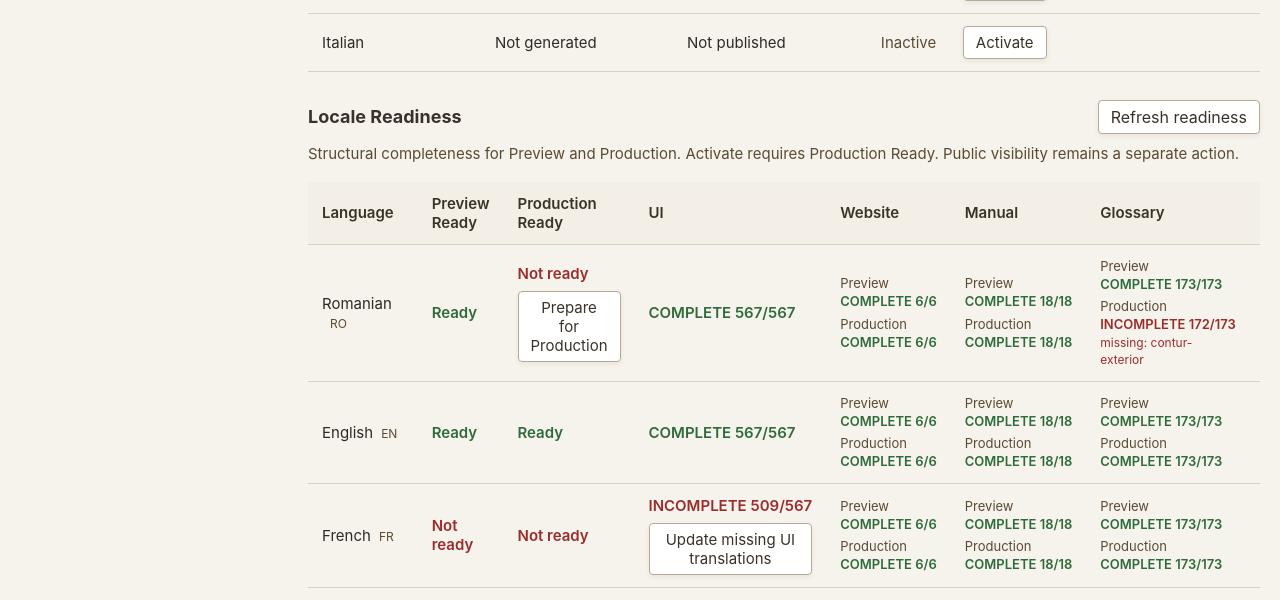
Test: Admin Locale Readiness overview › requires confirmation and refreshes readiness after successful prepare
(page scrolled)
What coordinates should you click on to do the following:
click the button "Prepare for Production" in the row of "172"
I would click on:
 (569, 326)
Its box is [518,291,620,362].
(page scrolled)
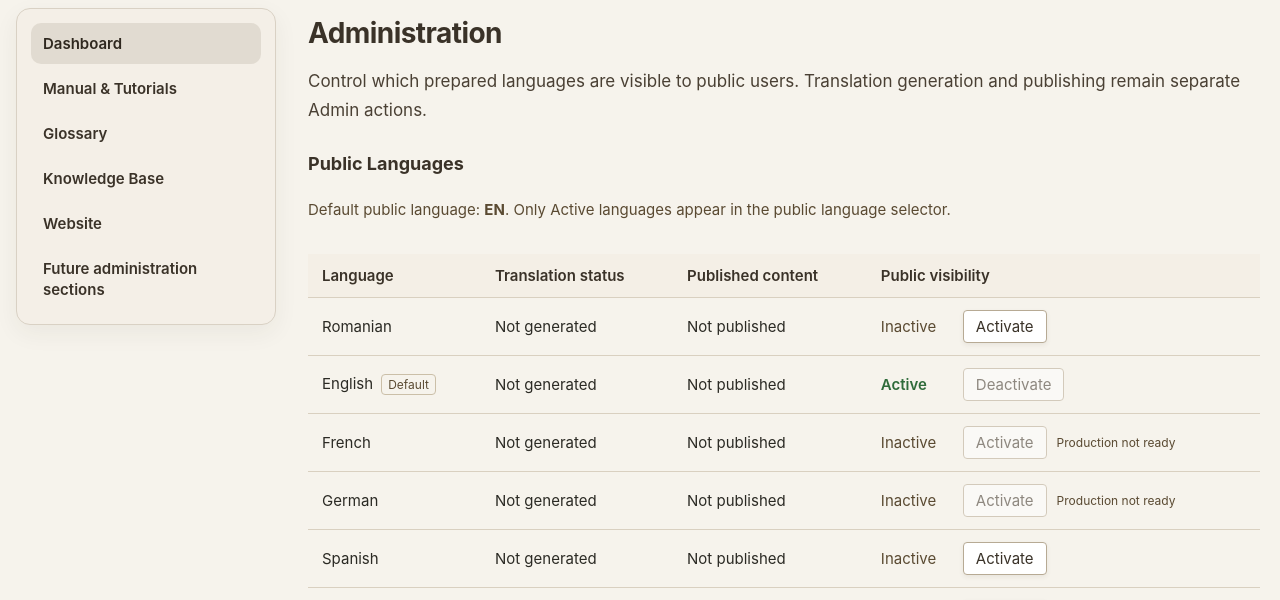
Check: the button "Prepare for Production" is not shown
Check: the 1st button "Activate" is enabled, box [963,310,1047,342]
